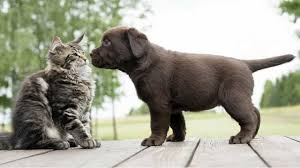cat: (10, 33, 101, 148)
dog: (92, 24, 262, 146)
